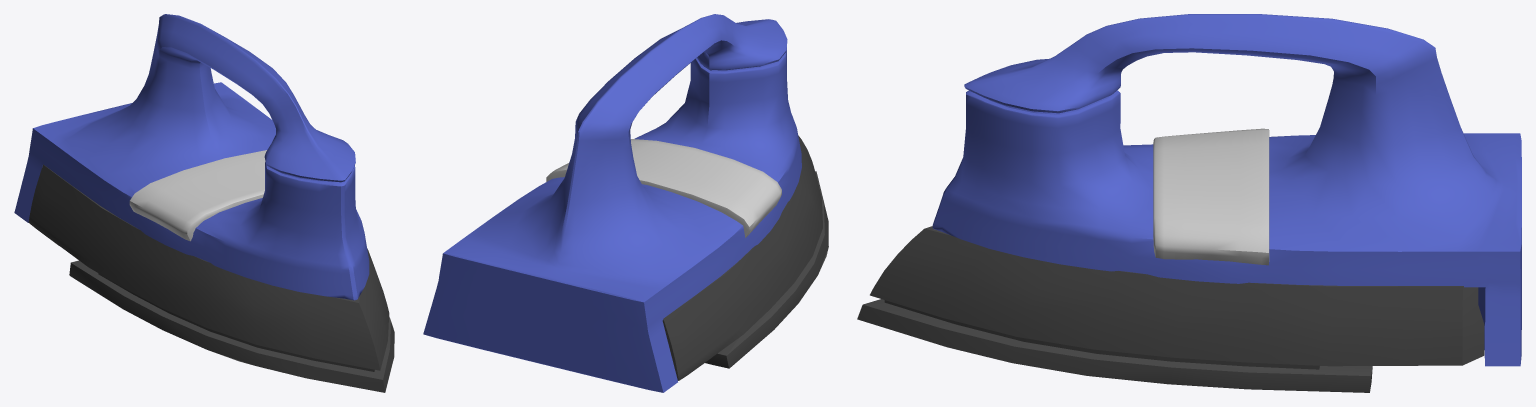
Rendered from Iron.fbx.
3 renders of one model, left to right at view 1: azimuth 30°, elevation 25°; view 2: azimuth 150°, elevation 25°; view 3: azimuth 270°, elevation 25°, orthographic. The views are drawn at different scales.
Visible parts, largest first — view 1: I_Ironw; view 2: I_Ironw; view 3: I_Ironw.
Boxes of the visible parts, box(x1,y1,x2,y2) form: I_Ironw: box(14, 14, 394, 392); I_Ironw: box(423, 14, 828, 392); I_Ironw: box(857, 14, 1521, 392).
Bounding box in the file's own units: 11.37 × 11.16 × 21.96.
